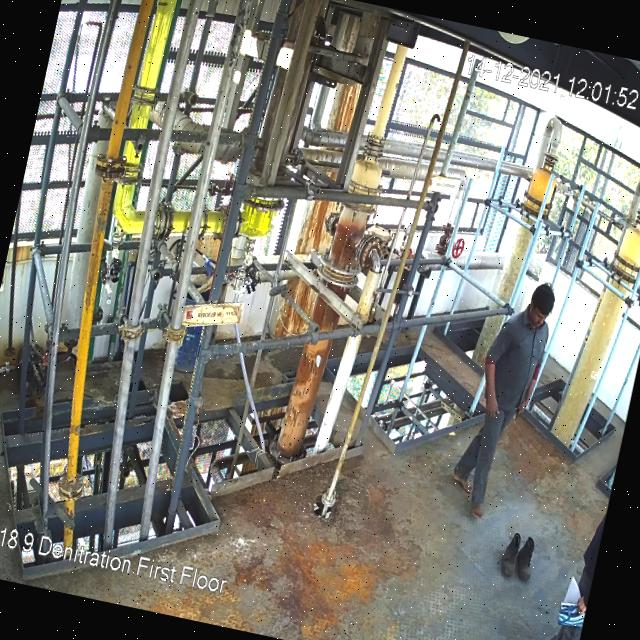boots: (508, 531, 544, 591), (494, 528, 524, 578)
no-boots: (448, 464, 478, 494)
